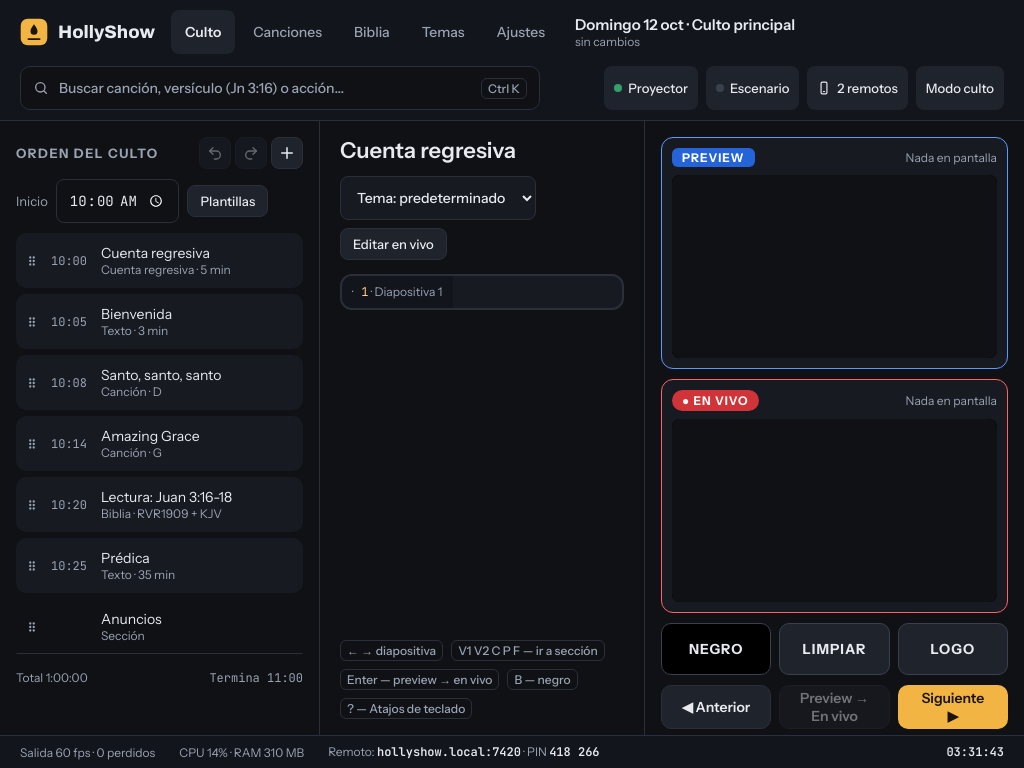
operator: service screen › opens the command palette with Ctrl+K and finds a song without accents
Expected: the element "Orden del culto" is shown, [0,121,320,735]
Type keys "{Control>}k{/Control}"
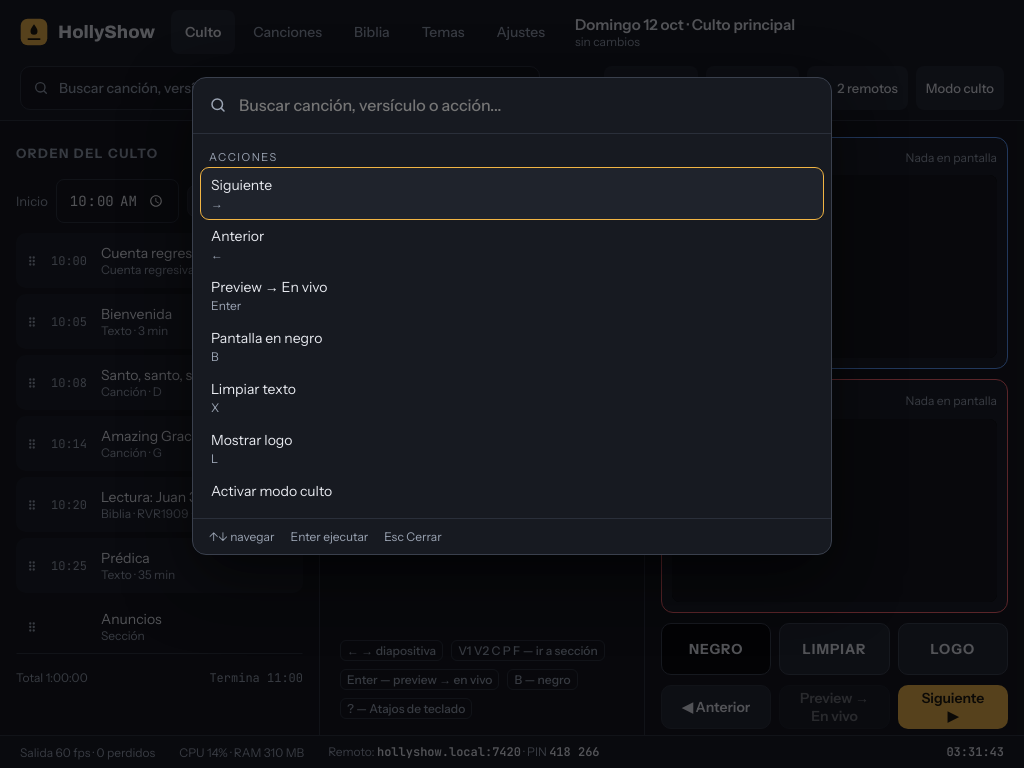
Type "senor" into the dropdown named "Paleta de comandos".
click(526, 105); type("senor")  # box [237,83,815,127]
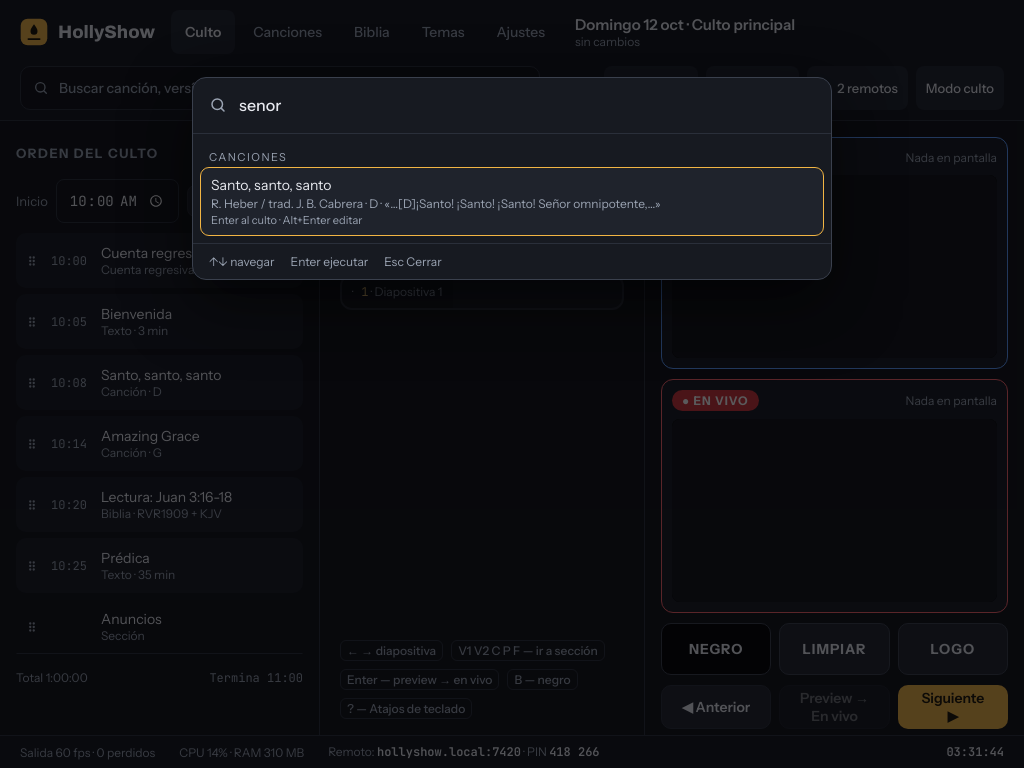
Expected: the option "Santo, santo, santo" is shown, [201,168,823,235]
